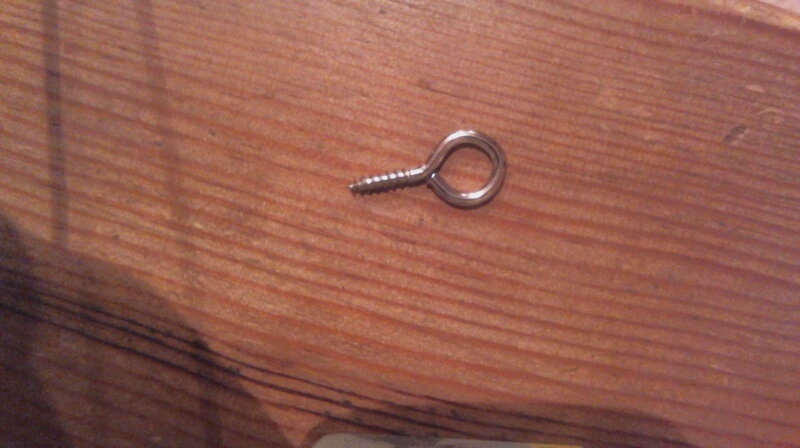O001: (344, 125, 508, 212)
